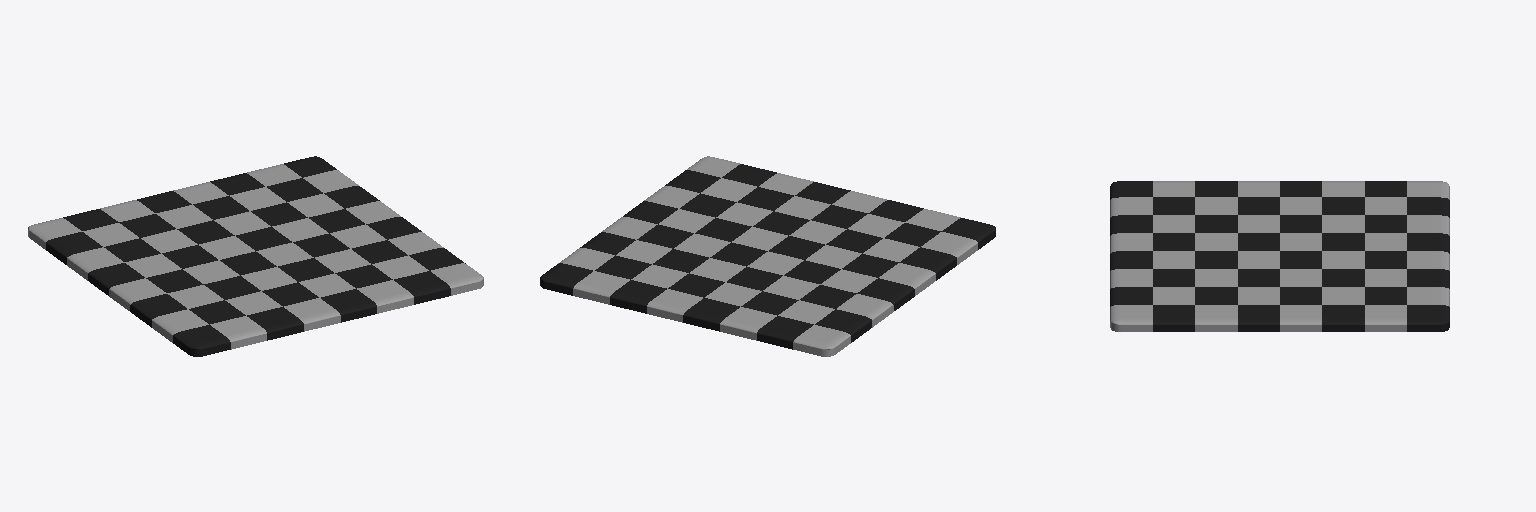
The model's file is board3.obj.
3 renders of one model, left to right at view 1: azimuth 30°, elevation 25°; view 2: azimuth 150°, elevation 25°; view 3: azimuth 270°, elevation 25°, orthographic.
Visible parts, largest first — view 1: chessboard_Cube.002; view 2: chessboard_Cube.002; view 3: chessboard_Cube.002.
Part boxes in pixels (x1,y1,x2,y2): chessboard_Cube.002: (28, 156, 483, 356); chessboard_Cube.002: (540, 156, 995, 356); chessboard_Cube.002: (1110, 181, 1449, 331).
Size of the model in its own units: 16 by 0.5 by 16.